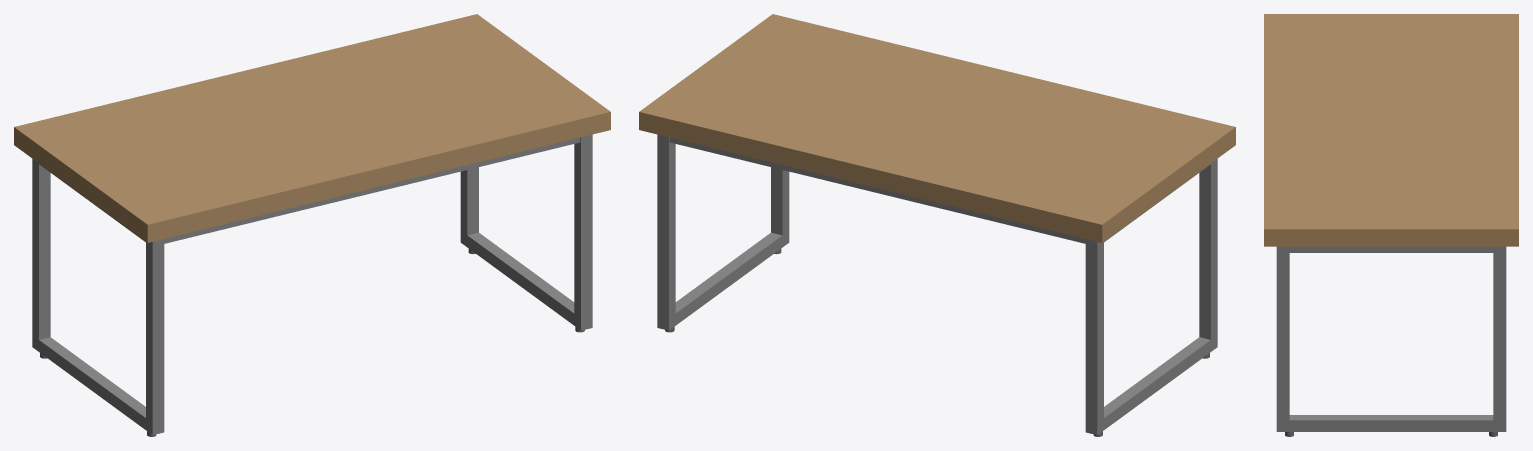
Rendered from ローテブル.fbx.
The picture shows the model from 3 angles, left to right: view 1: azimuth 30°, elevation 25°; view 2: azimuth 150°, elevation 25°; view 3: azimuth 270°, elevation 25°; orthographic projection. The views are drawn at different scales.
Visible parts, largest first — view 1: 389_センターテーブル; view 2: 389_センターテーブル; view 3: 389_センターテーブル.
Part boxes in pixels (x1,y1,x2,y2): 389_センターテーブル: (14, 14, 610, 436); 389_センターテーブル: (639, 14, 1235, 436); 389_センターテーブル: (1264, 14, 1518, 436).
Size of the model in its own units: 80 by 37 by 40.
